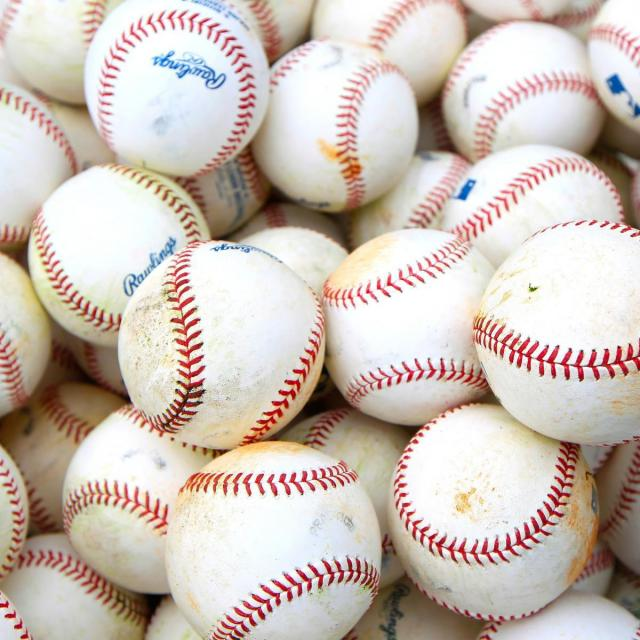baseball: (392, 402, 598, 617), (118, 241, 325, 449), (163, 444, 381, 619), (474, 221, 635, 447), (86, 3, 270, 176), (318, 230, 480, 422), (33, 164, 192, 338), (262, 38, 417, 207), (62, 404, 176, 596), (446, 20, 604, 156), (439, 149, 629, 235)
